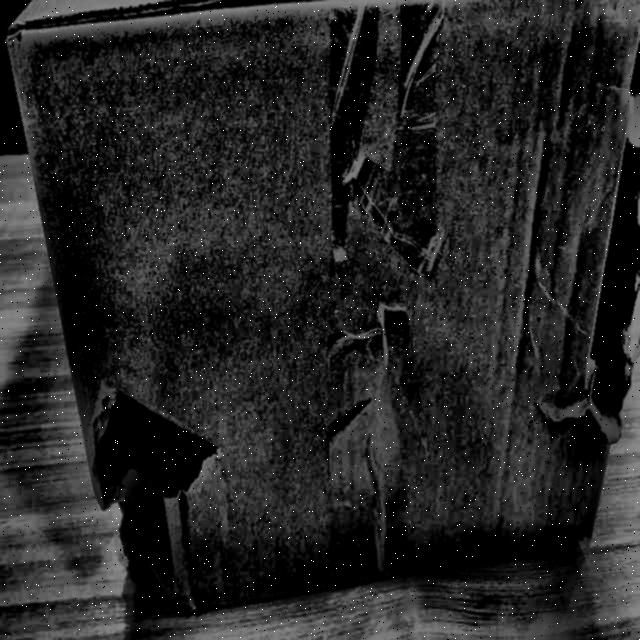box: (5, 0, 639, 623)
hole: (82, 376, 224, 606), (580, 83, 640, 447)
